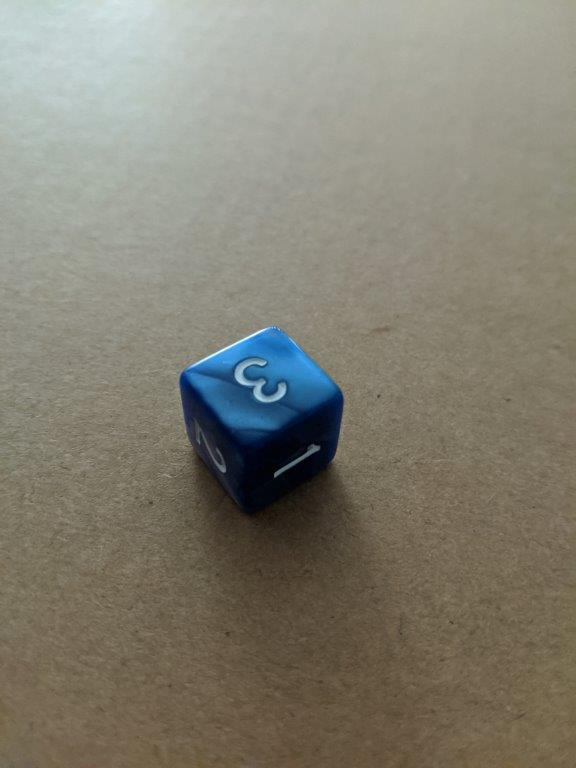d6-3: (179, 324, 345, 516)
